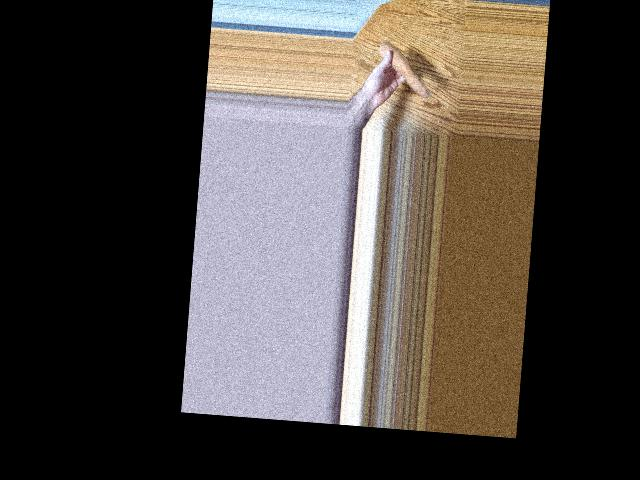sweet_potato: (375, 42, 432, 97)
